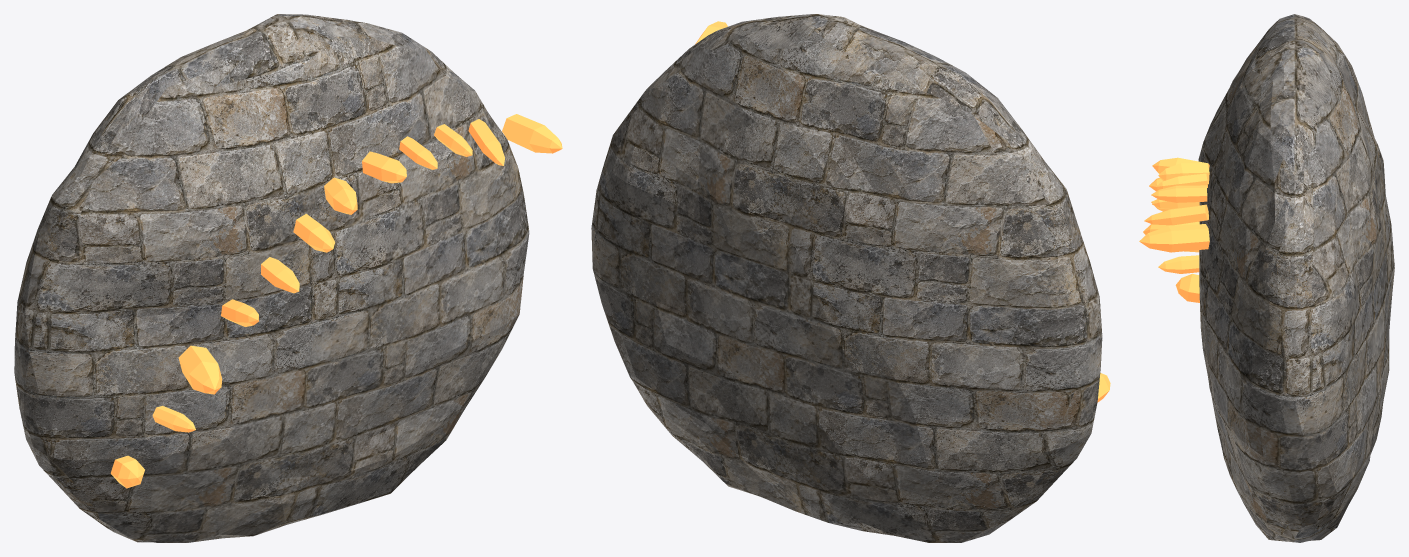
Rendered from ember-vein-wall-v01.glb.
The picture shows the model from 3 angles, left to right: view 1: azimuth 30°, elevation 25°; view 2: azimuth 150°, elevation 25°; view 3: azimuth 270°, elevation 25°; orthographic projection. The views are drawn at different scales.
Visible parts, largest first — view 1: ember-vein-wall; view 2: ember-vein-wall; view 3: ember-vein-wall.
Boxes of the visible parts, x1,y1,x2,y2 form: ember-vein-wall: (14,14,562,542); ember-vein-wall: (591,14,1110,542); ember-vein-wall: (1139,14,1394,542).
Size of the model in its own units: 2.6 by 2.39 by 1.23.
2 materials, 1 textured.
